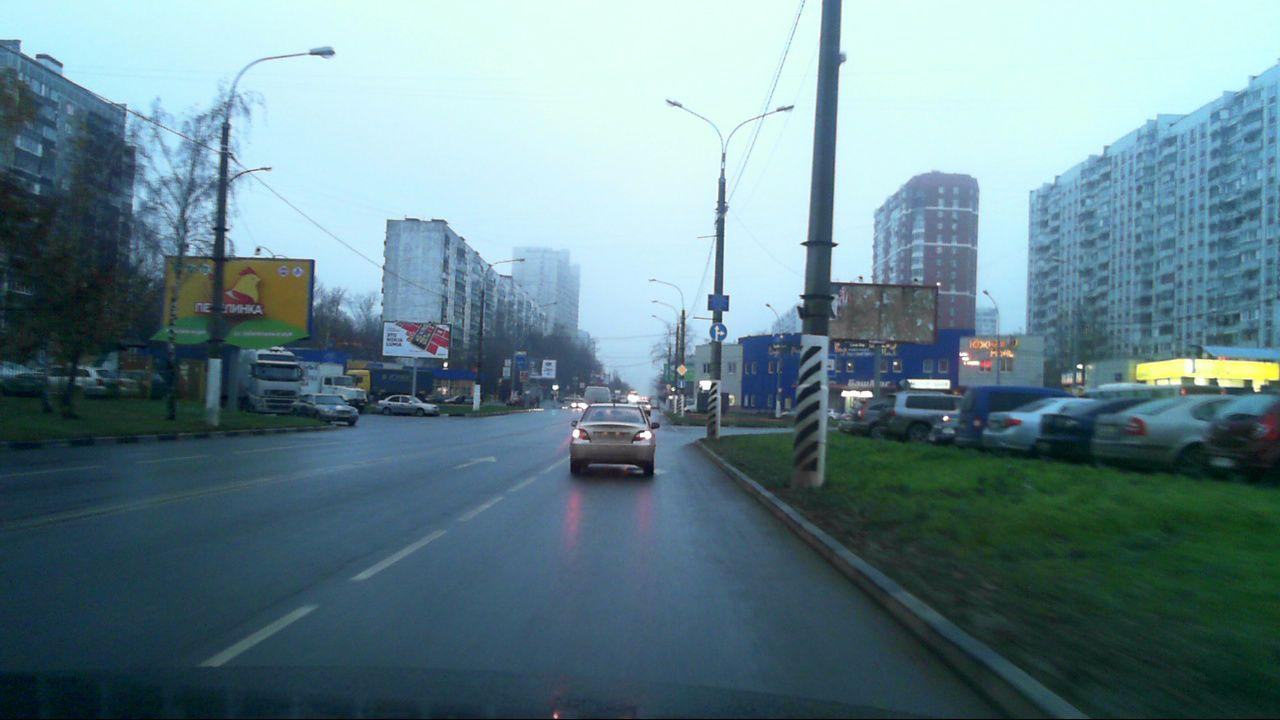road_sign: (709, 323, 728, 341)
